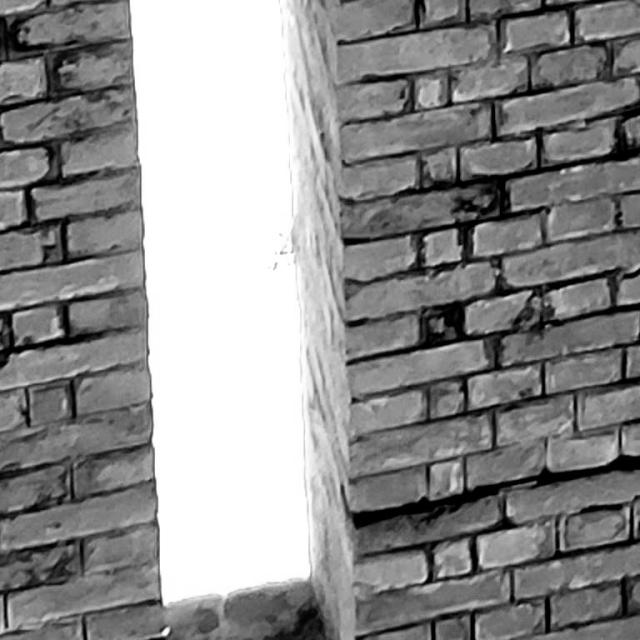crack: (340, 456, 638, 528)
